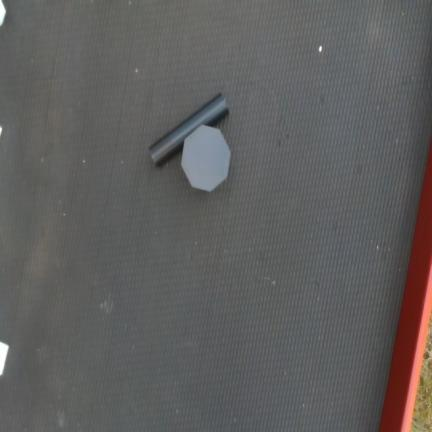Cilindro: (149, 92, 230, 165)
Prisma_hexagonal: (181, 124, 231, 193)
